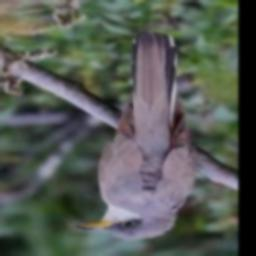Cuckoo: (76, 32, 197, 241)
